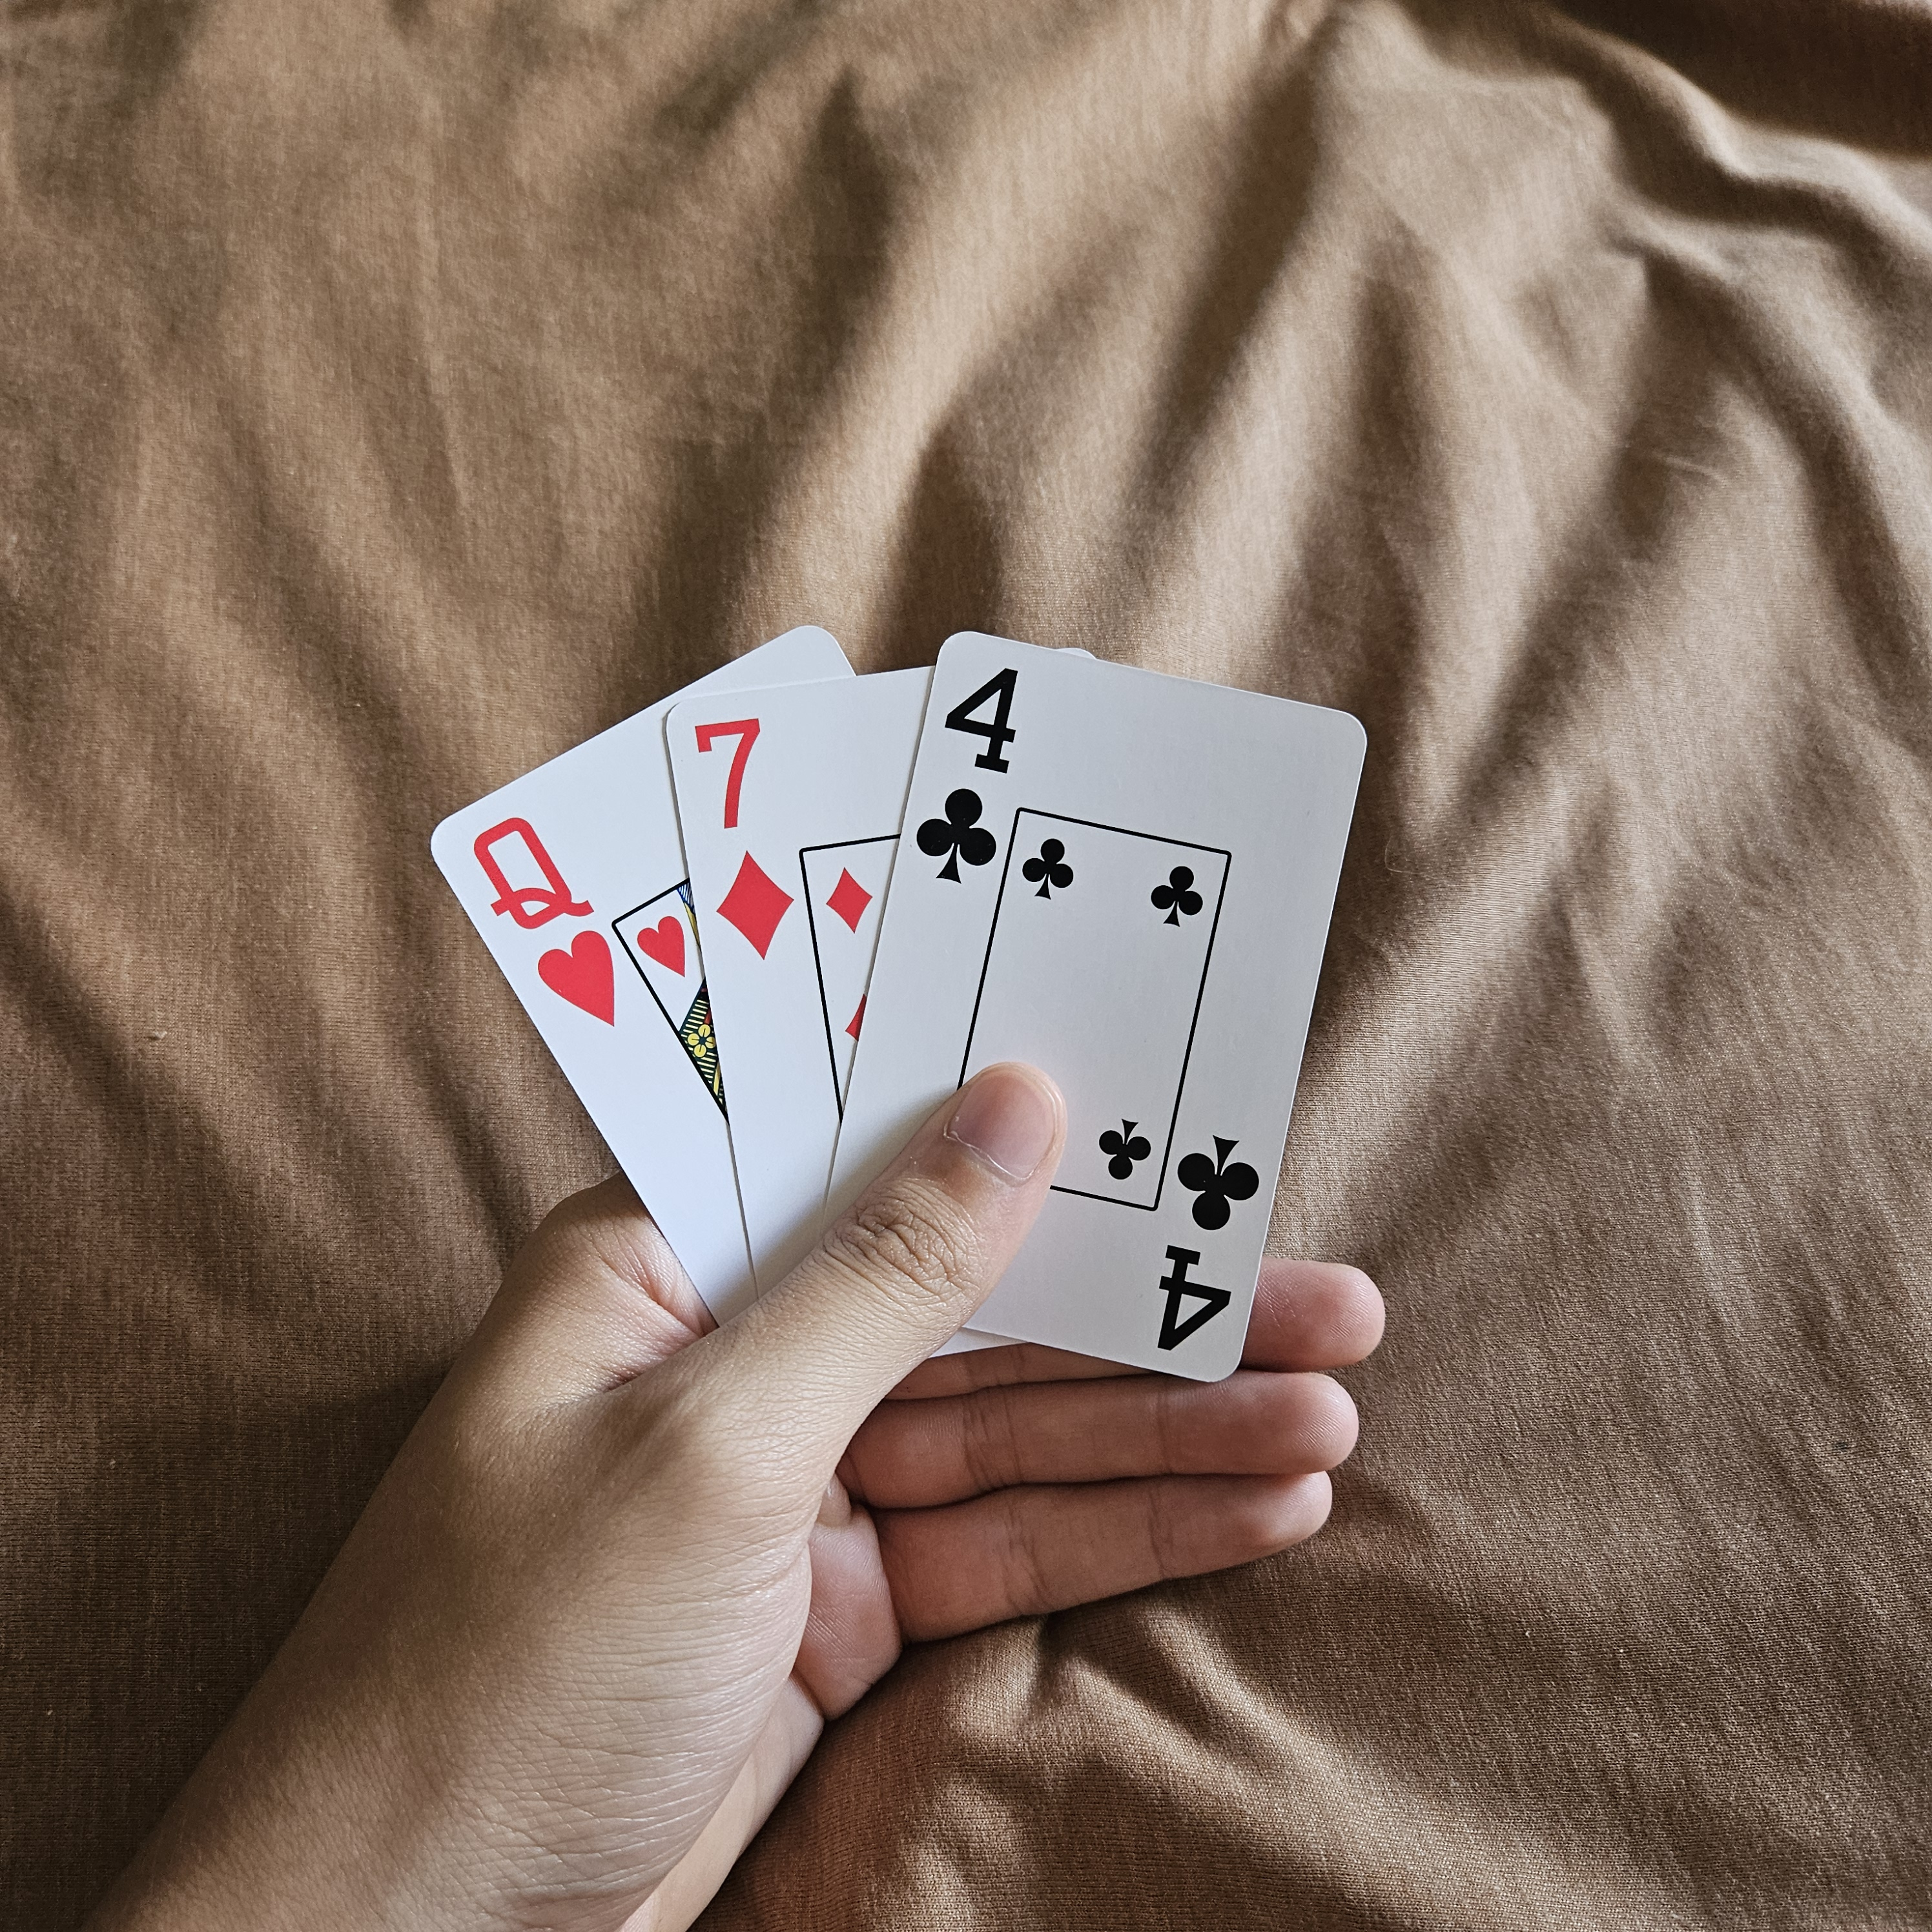4P: (904, 653, 1033, 892), (1146, 1116, 1265, 1362)
7O: (674, 704, 817, 970)
QC: (460, 794, 632, 1031)
